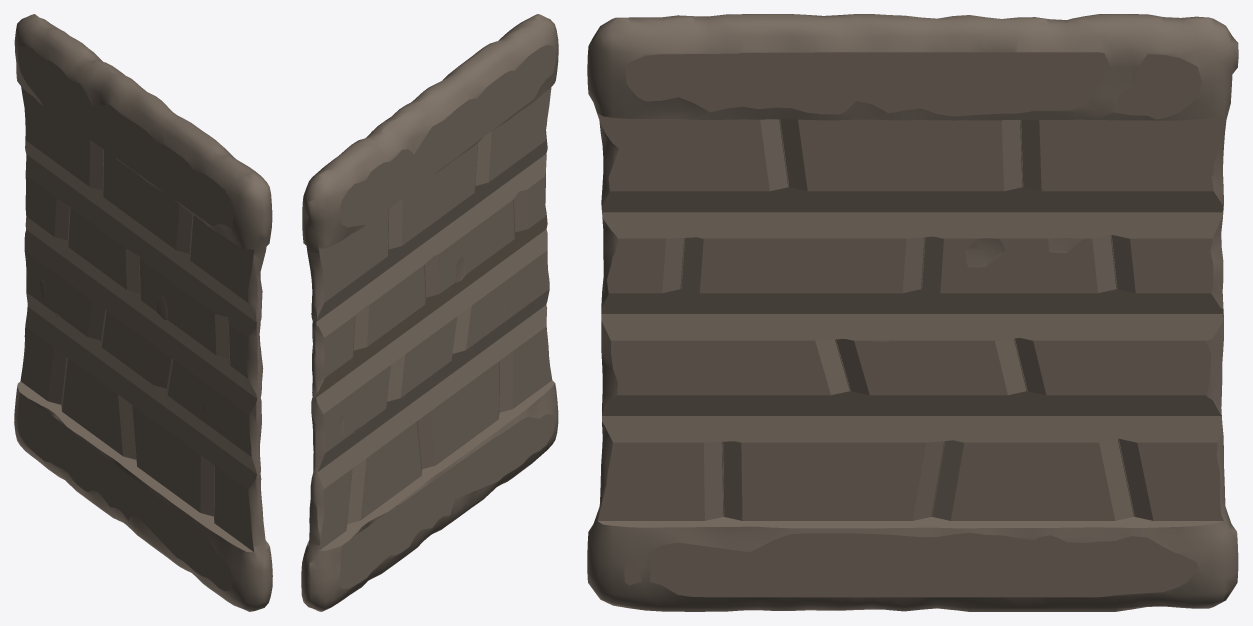
The model's file is Wall.fbx.
3 renders of one model, left to right at view 1: azimuth 30°, elevation 25°; view 2: azimuth 150°, elevation 25°; view 3: azimuth 270°, elevation 25°, orthographic. The views are drawn at different scales.
Visible parts, largest first — view 1: Plane.003_dmg; view 2: Plane.003_dmg; view 3: Plane.003_dmg.
Part boxes in pixels (bbox=[...]): Plane.003_dmg: bbox=[14, 14, 272, 611]; Plane.003_dmg: bbox=[301, 14, 558, 611]; Plane.003_dmg: bbox=[587, 14, 1238, 611].
Bounding box in the file's own units: 33.06 × 387 × 386.
